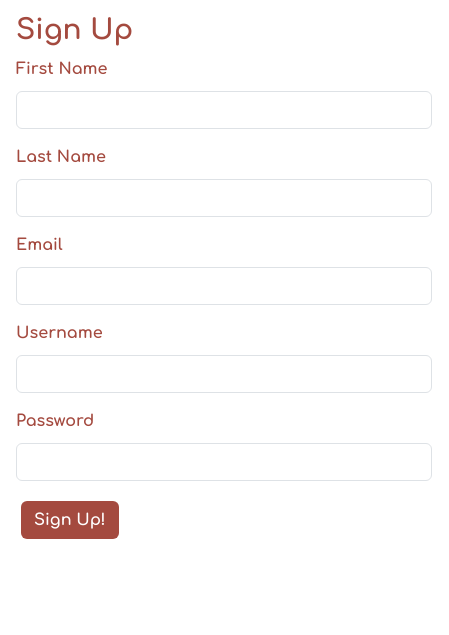
Test: shows errors when submission function throws them
The image size is (449, 635).
Type "test-username" into the field with id "signUpForm-username" at coordinates (224, 374), box top-left (16, 355), bottom-right (432, 393)
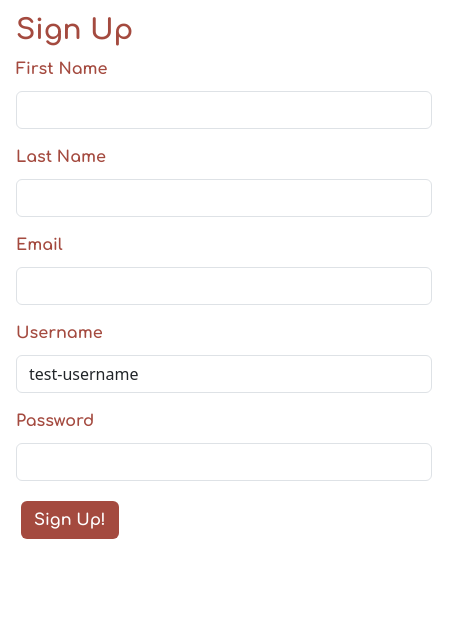
Type "test-password" into the password field with id "signUpForm-password" at coordinates (224, 462), box top-left (16, 443), bottom-right (432, 481)
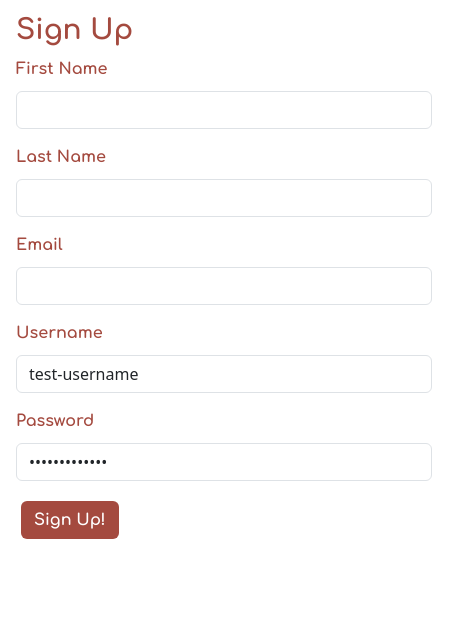
Type "test-first-name" into the field with id "signUpForm-first-name" at coordinates (224, 110), box top-left (16, 91), bottom-right (432, 129)
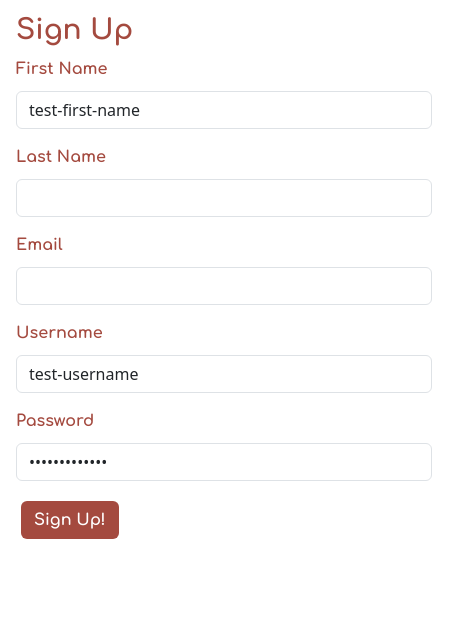
Type "test-last-name" into the field with id "signUpForm-last-name" at coordinates (224, 198), box top-left (16, 179), bottom-right (432, 217)
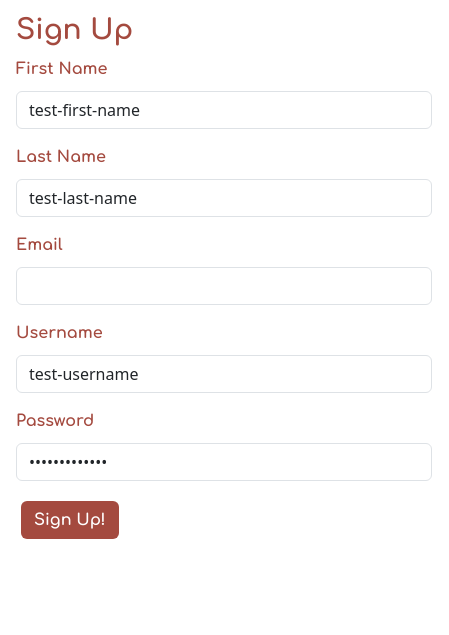
Type "test-email" into the field with id "signUpForm-email" at coordinates (224, 286), box top-left (16, 267), bottom-right (432, 305)
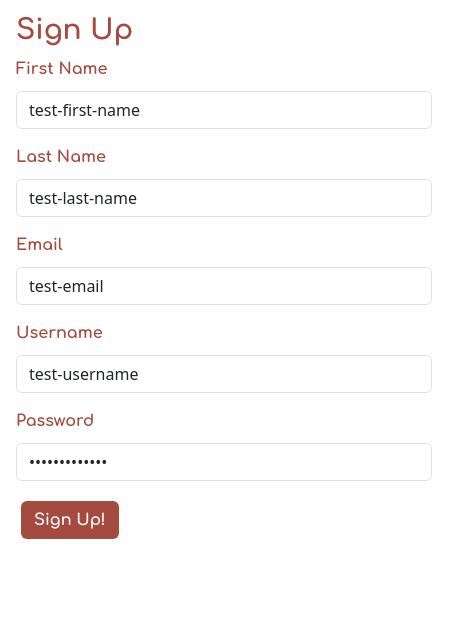
Submit the form
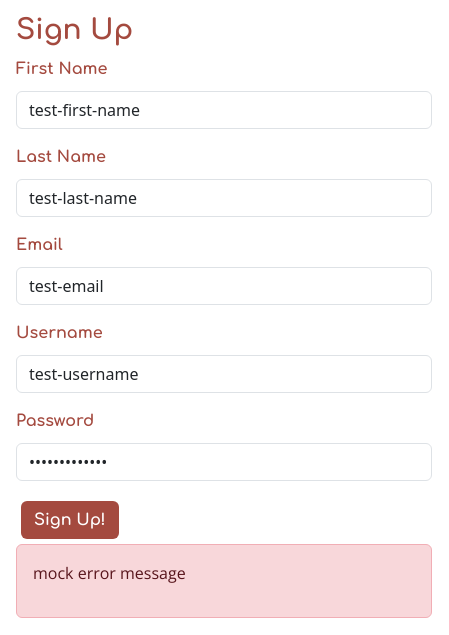
Expected: the element with class "Error" reads "mock error message", top-left (33, 562), bottom-right (186, 584)
